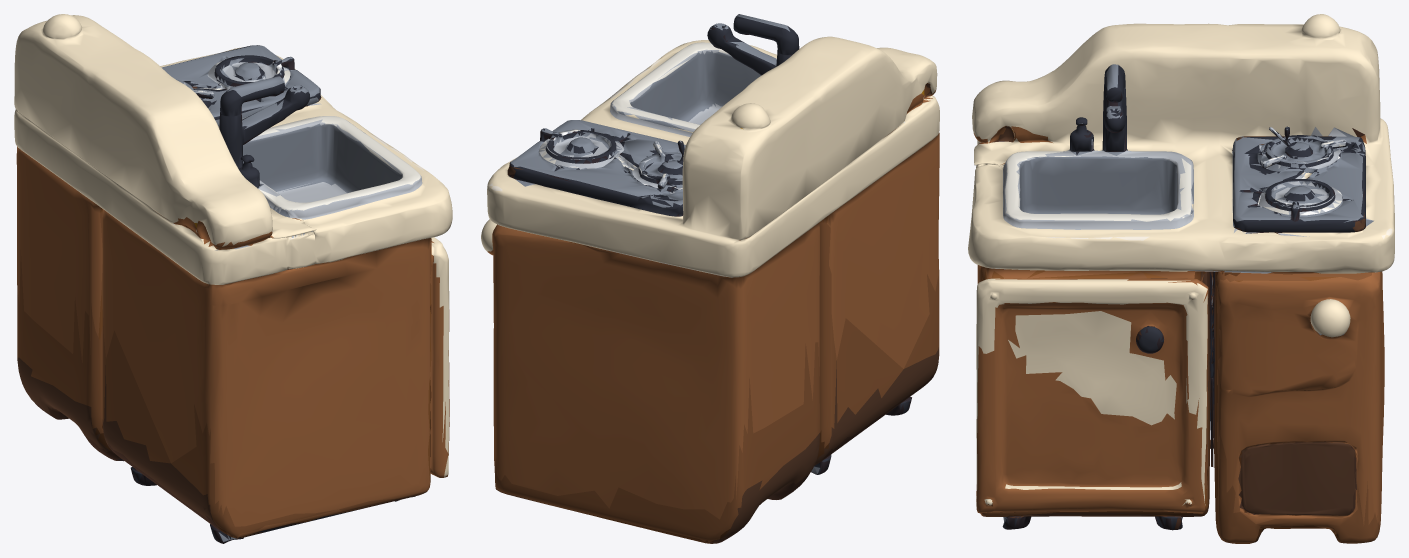
The model's file is SM_kitchen_unit_upper.fbx.
3 views of the same model, side by side, from view 1: azimuth 30°, elevation 25°; view 2: azimuth 150°, elevation 25°; view 3: azimuth 270°, elevation 25° (orthographic).
Visible parts, largest first — view 1: SM_kitchen_unit_upper; view 2: SM_kitchen_unit_upper; view 3: SM_kitchen_unit_upper.
Boxes of the visible parts, <box> form: SM_kitchen_unit_upper: <box>14,14,452,543</box>; SM_kitchen_unit_upper: <box>481,14,939,543</box>; SM_kitchen_unit_upper: <box>968,14,1394,543</box>.
Bounding box in the file's own units: 63.64 × 90 × 83.41.
1 material, 1 textured.
